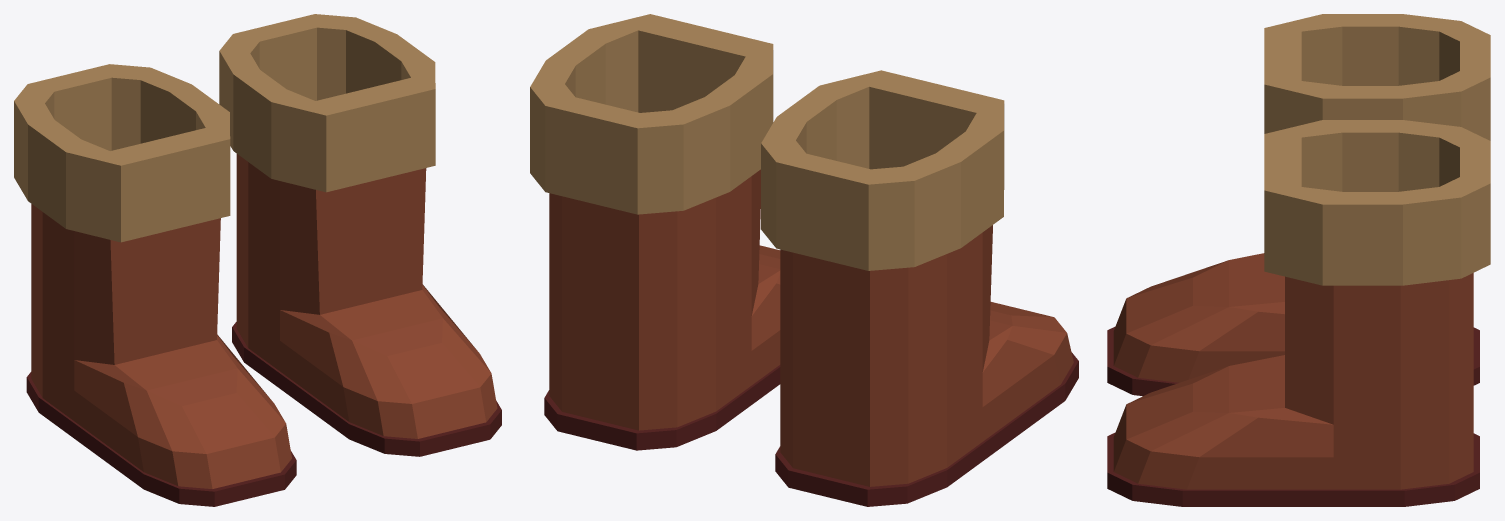
The model's file is Boots.fbx.
3 views of the same model, side by side, from view 1: azimuth 30°, elevation 25°; view 2: azimuth 150°, elevation 25°; view 3: azimuth 270°, elevation 25° (orthographic). The views are drawn at different scales.
Visible parts, largest first — view 1: Cube; view 2: Cube; view 3: Cube.
Part boxes in pixels (x1=…): Cube: x1=14, y1=14, x2=501, y2=506; Cube: x1=530, y1=14, x2=1078, y2=506; Cube: x1=1107, y1=14, x2=1490, y2=506.
Size of the model in its own units: 252 by 190 by 214.
